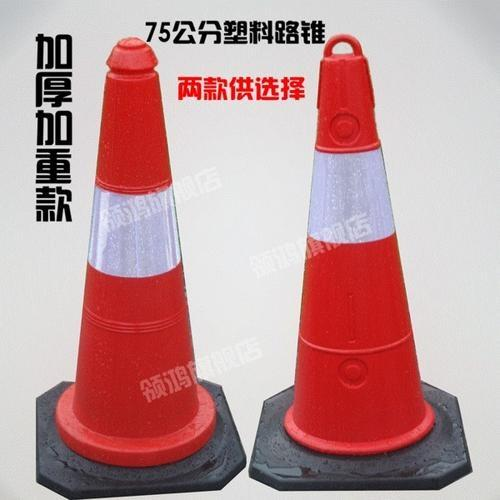cone_barrel: (47, 40, 227, 468), (264, 38, 444, 460)
